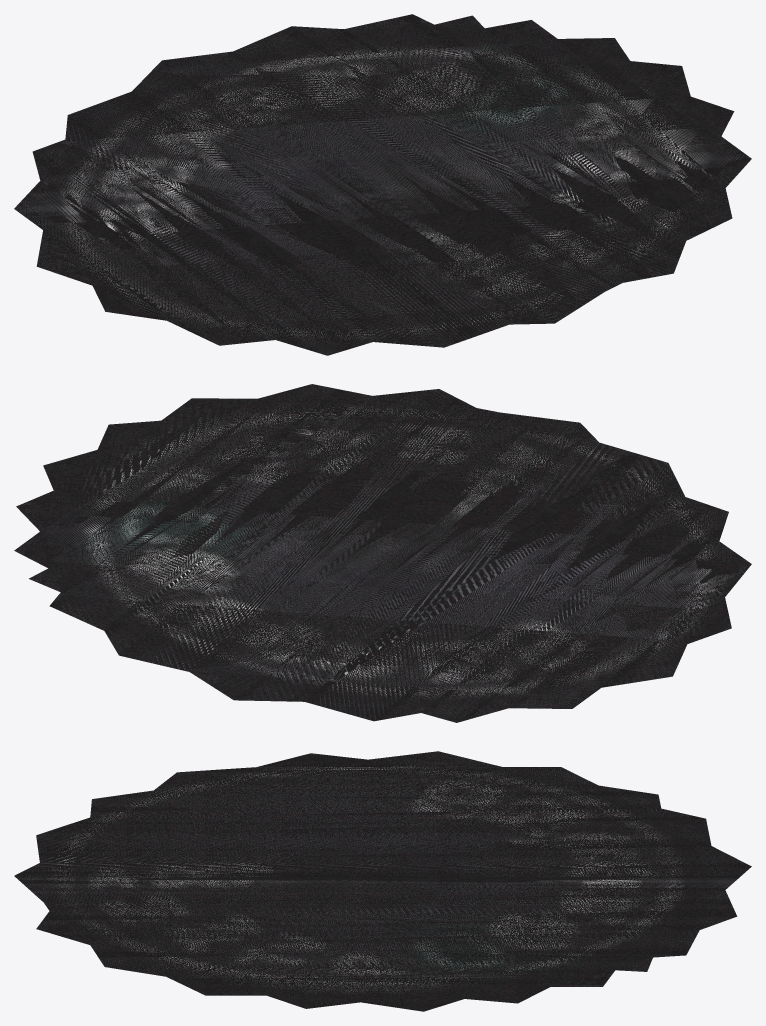
File: original-81.obj
The picture shows the model from 3 angles, top to bottom: view 1: azimuth 30°, elevation 25°; view 2: azimuth 150°, elevation 25°; view 3: azimuth 270°, elevation 25°; orthographic projection.
Visible parts, largest first — view 1: Group5/mesh34/mesh34-geometry/material_2#mesh34-geometry; view 2: Group5/mesh34/mesh34-geometry/material_2#mesh34-geometry; view 3: Group5/mesh34/mesh34-geometry/material_2#mesh34-geometry.
Part boxes in pixels (x1,y1,x2,y2): Group5/mesh34/mesh34-geometry/material_2#mesh34-geometry: (14, 14, 751, 355); Group5/mesh34/mesh34-geometry/material_2#mesh34-geometry: (14, 384, 751, 722); Group5/mesh34/mesh34-geometry/material_2#mesh34-geometry: (14, 751, 751, 1011).
Bounding box in the file's own units: 0.2064 × 0.0156 × 0.2072.
Materials: 2 (2 with a texture image).
